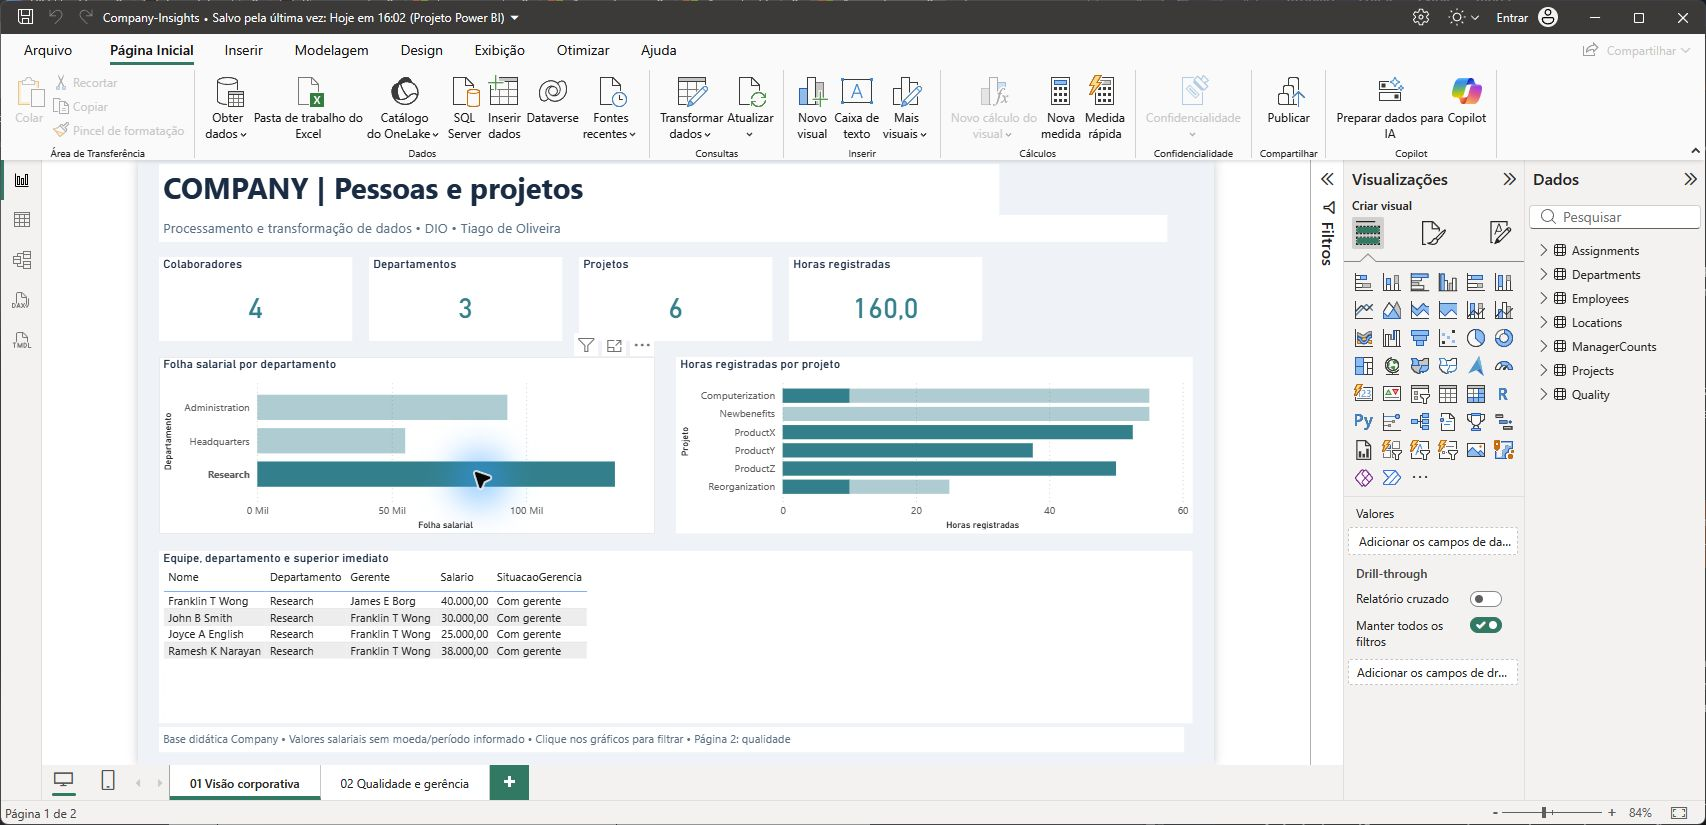

The page's visual inventory and layout, read from the dashboard file:
{"tool":"powerbi","page":{"name":"01 Visão corporativa","canvas":[1280,720],"ordinal":0},"visuals":[{"type":"textbox","box":[25,5,1000,65],"z":1000},{"type":"textbox","box":[25,65,1200,32],"z":2000},{"type":"card","title":"Colaboradores","fields":{"Values":["Employees.Colaboradores"]},"box":[25,115,230,100],"z":3000},{"type":"card","title":"Departamentos","fields":{"Values":["Departments.Departamentos"]},"box":[275,115,230,100],"z":4000},{"type":"card","title":"Projetos","fields":{"Values":["Projects.Projetos"]},"box":[525,115,230,100],"z":5000},{"type":"card","title":"Horas registradas","fields":{"Values":["Assignments.Horas registradas"]},"box":[775,115,230,100],"z":6000},{"type":"clusteredBarChart","title":"Folha salarial por departamento","fields":{"Category":["Employees.Departamento"],"Y":["Employees.Folha salarial"]},"box":[25,235,590,210],"z":7000},{"type":"clusteredBarChart","title":"Horas registradas por projeto","fields":{"Category":["Assignments.Projeto"],"Y":["Assignments.Horas registradas"]},"box":[640,235,615,210],"z":8000},{"type":"tableEx","title":"Equipe, departamento e superior imediato","fields":{"Values":["Employees.Nome","Employees.Departamento","Employees.Gerente","Employees.Salario","Employees.SituacaoGerencia"]},"box":[25,465,1230,205],"z":9000},{"type":"textbox","box":[25,675,1220,30],"z":10000}]}

Visuals, with their boxes on the page's 1280x720 design canvas (x1, y1, x2, y2). These are canvas units, not pixel positions in the 1706x825 screenshot, which may show the page scaled, cropped or inside an application window:
textbox: pyautogui.locateOnScreen(25, 5, 1025, 70)
textbox: pyautogui.locateOnScreen(25, 65, 1225, 97)
"Colaboradores" card: pyautogui.locateOnScreen(25, 115, 255, 215)
"Departamentos" card: pyautogui.locateOnScreen(275, 115, 505, 215)
"Projetos" card: pyautogui.locateOnScreen(525, 115, 755, 215)
"Horas registradas" card: pyautogui.locateOnScreen(775, 115, 1005, 215)
"Folha salarial por departamento" clusteredBarChart: pyautogui.locateOnScreen(25, 235, 615, 445)
"Horas registradas por projeto" clusteredBarChart: pyautogui.locateOnScreen(640, 235, 1255, 445)
"Equipe, departamento e superior imediato" tableEx: pyautogui.locateOnScreen(25, 465, 1255, 670)
textbox: pyautogui.locateOnScreen(25, 675, 1245, 705)
